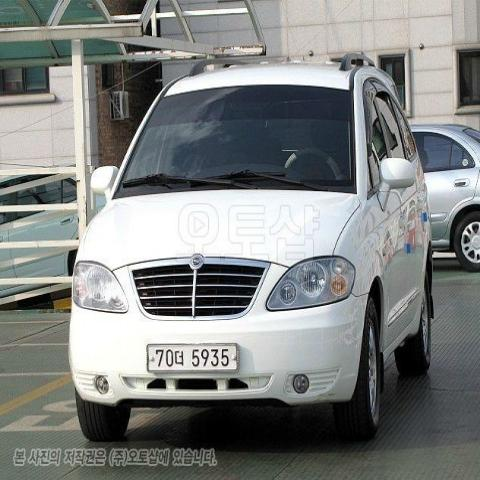LP: (141, 338, 242, 379)
